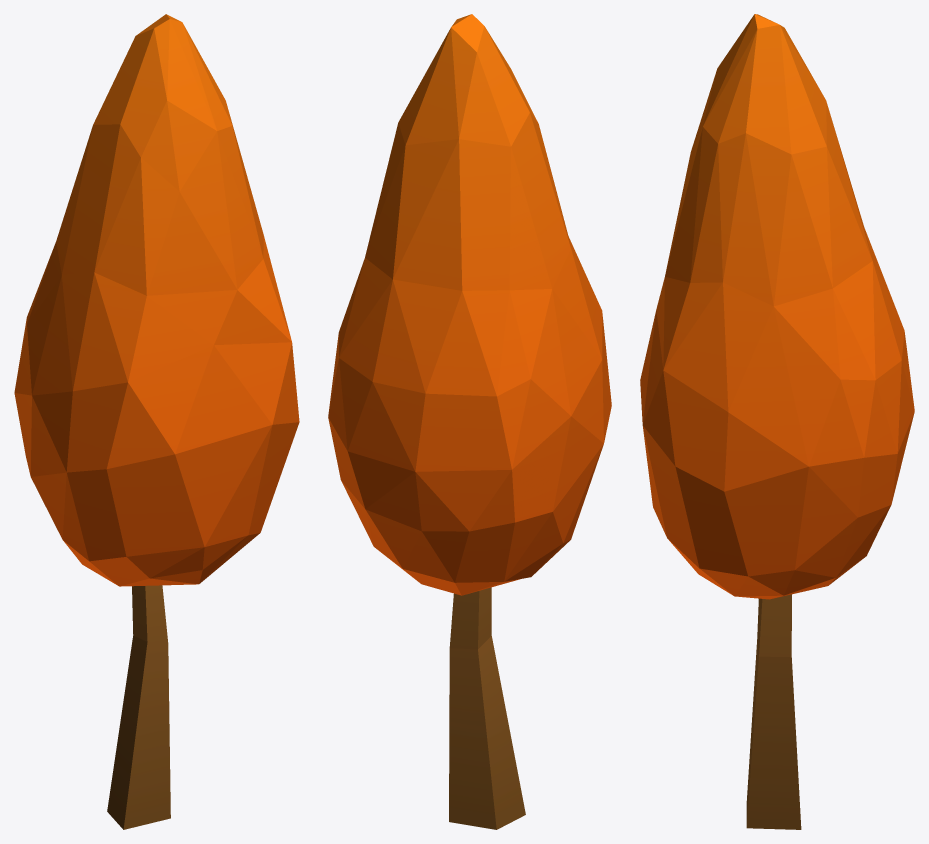
File: Arbol_Hojas3_naranja.fbx
The picture shows the model from 3 angles, left to right: view 1: azimuth 30°, elevation 25°; view 2: azimuth 150°, elevation 25°; view 3: azimuth 270°, elevation 25°; orthographic projection. The views are drawn at different scales.
Parts seen in each view (by area): view 1: Tree_small_regular; view 2: Tree_small_regular; view 3: Tree_small_regular.
Part boxes in pixels (<box>): Tree_small_regular: <box>14,14,299,829</box>; Tree_small_regular: <box>328,14,611,829</box>; Tree_small_regular: <box>640,14,914,829</box>.
Bounding box in the file's own units: 230 × 770 × 235.
